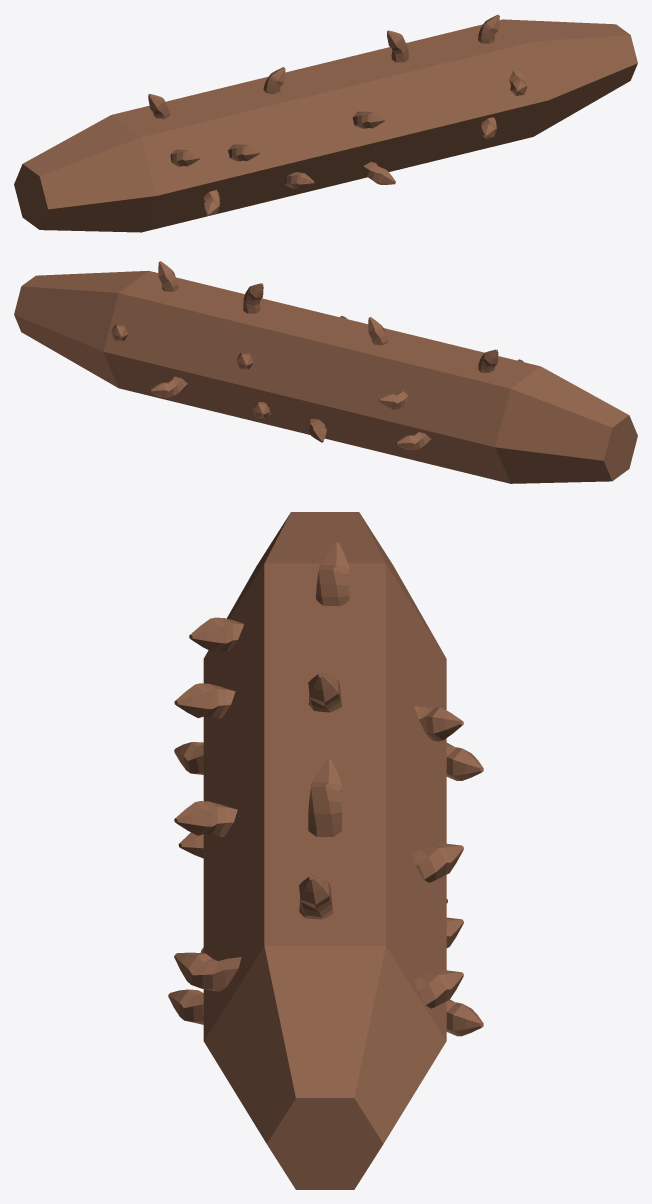
Rendered from Log.fbx.
3 renders of one model, top to bottom at view 1: azimuth 30°, elevation 25°; view 2: azimuth 150°, elevation 25°; view 3: azimuth 270°, elevation 25°, orthographic. The views are drawn at different scales.
Visible parts, largest first — view 1: Cylinder, Cylinder.010, Cylinder.007, Cylinder.019, Cylinder.005, Cylinder.018, Cylinder.009, Cylinder.006, Cylinder.022, Cylinder.001, Cylinder.021, Cylinder.020; view 2: Cylinder, Cylinder.010, Cylinder.012, Cylinder.005, Cylinder.004, Cylinder.009, Cylinder.017, Cylinder.001; view 3: Cylinder, Cylinder.010, Cylinder.020, Cylinder.001, Cylinder.019, Cylinder.018, Cylinder.013, Cylinder.006, Cylinder.002, Cylinder.005, Cylinder.017, Cylinder.009 (+3 smaller).
Boxes of the visible parts, <box> form: Cylinder: <box>14,19,637,232</box>; Cylinder.010: <box>387,30,408,62</box>; Cylinder.007: <box>361,162,395,184</box>; Cylinder.019: <box>352,111,384,128</box>; Cylinder.005: <box>478,14,499,43</box>; Cylinder.018: <box>228,144,259,161</box>; Cylinder.009: <box>263,67,285,93</box>; Cylinder.006: <box>170,149,199,166</box>; Cylinder.022: <box>283,172,314,189</box>; Cylinder.001: <box>148,94,169,118</box>; Cylinder.021: <box>202,190,220,215</box>; Cylinder.020: <box>509,70,526,96</box>; Cylinder: <box>14,270,637,483</box>; Cylinder.010: <box>243,283,263,313</box>; Cylinder.012: <box>150,376,187,397</box>; Cylinder.005: <box>158,261,178,291</box>; Cylinder.004: <box>396,432,430,450</box>; Cylinder.009: <box>368,317,387,345</box>; Cylinder.017: <box>378,391,407,409</box>; Cylinder.001: <box>478,349,498,372</box>; Cylinder: <box>203,512,446,1189</box>; Cylinder.010: <box>308,759,341,836</box>; Cylinder.020: <box>174,952,241,991</box>; Cylinder.001: <box>316,542,349,605</box>; Cylinder.019: <box>174,801,237,836</box>; Cylinder.018: <box>174,683,235,718</box>; Cylinder.013: <box>412,843,463,882</box>; Cylinder.006: <box>189,617,243,652</box>; Cylinder.002: <box>415,970,463,1008</box>; Cylinder.005: <box>299,875,332,919</box>; Cylinder.017: <box>414,704,463,741</box>; Cylinder.009: <box>308,672,341,712</box>.
Bounding box in the file's own units: 1127 × 229 × 260.
